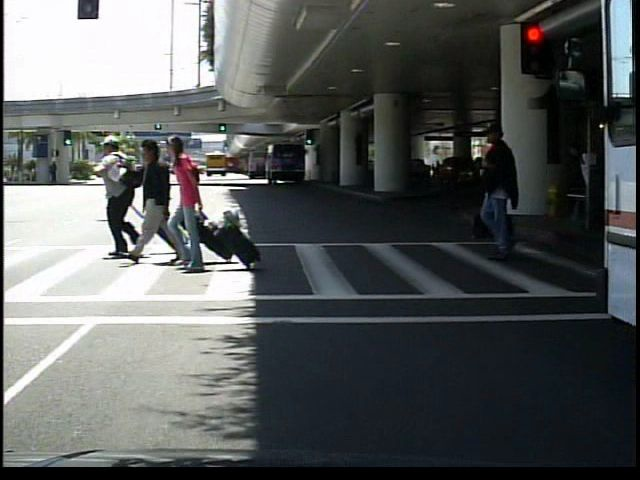person: (463, 115, 535, 264)
